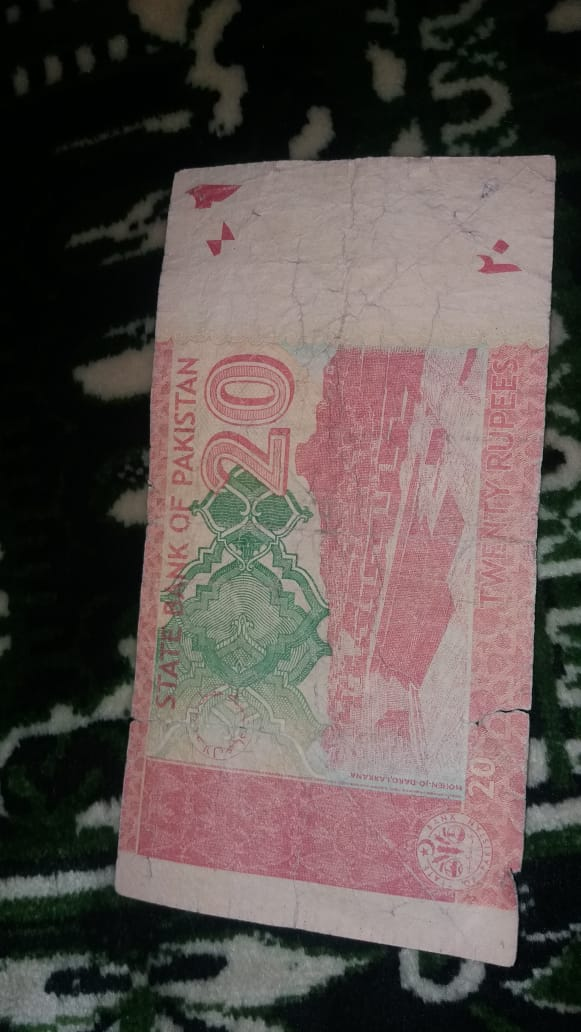20 rupee: (108, 136, 543, 981)
